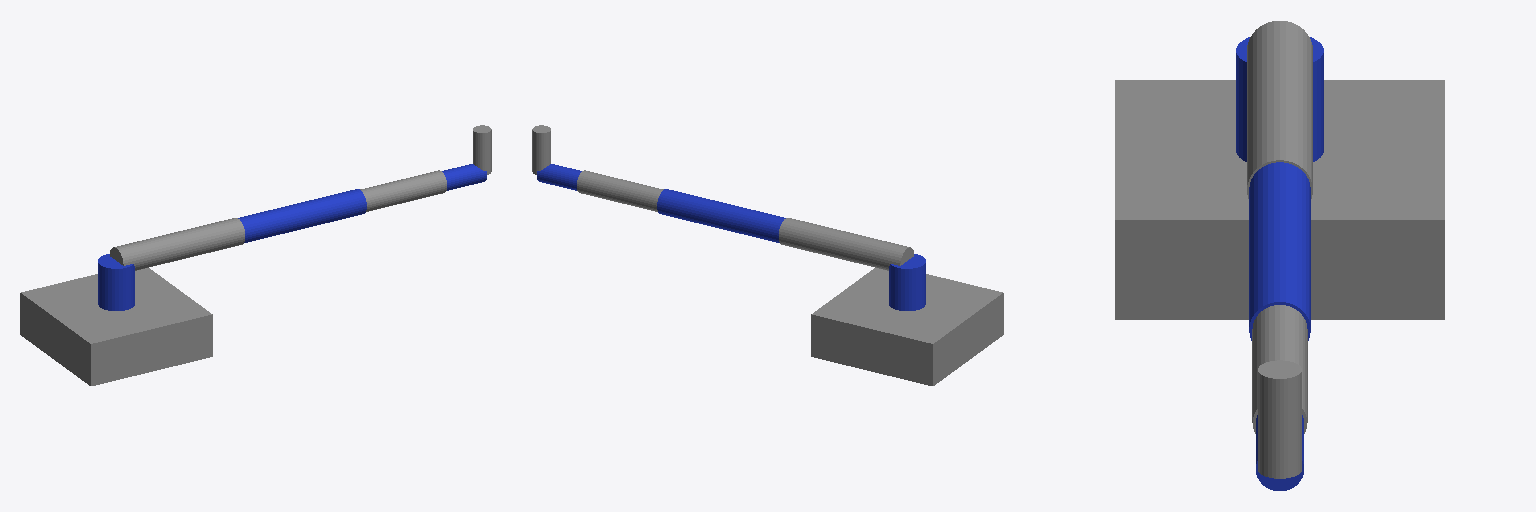
URDF robot description (six_dof_arm):
<?xml version="1.0"?>
<robot name="six_dof_arm">

  <!-- Materiali -->
  <material name="gray"><color rgba="0.6 0.6 0.6 1"/></material>
  <material name="blue"><color rgba="0.2 0.3 0.8 1"/></material>

  <!-- BASE -->
  <link name="base_link">
    <visual>
      <origin xyz="0 0 0.05" rpy="0 0 0"/>
      <geometry><box size="0.30 0.30 0.10"/></geometry>
      <material name="gray"/>
    </visual>
    <collision>
      <origin xyz="0 0 0.05" rpy="0 0 0"/>
      <geometry><box size="0.30 0.30 0.10"/></geometry>
    </collision>
  </link>

  <link name="link1">
    <visual>
      <origin xyz="0 0 0.05" rpy="0 0 0"/>
      <geometry><cylinder radius="0.04" length="0.10"/></geometry>
      <material name="blue"/>
    </visual>
    <collision>
      <origin xyz="0 0 0.05" rpy="0 0 0"/>
      <geometry><cylinder radius="0.04" length="0.10"/></geometry>
    </collision>
    <inertial>
      <mass value="1.0"/>
      <inertia ixx="0.005" iyy="0.005" izz="0.005" ixy="0" ixz="0" iyz="0"/>
    </inertial>
  </link>

  <!-- J1: spalla PAN (asse Z) -->
  <joint name="joint1" type="revolute">
    <parent link="base_link"/>
    <child link="link1"/>
    <origin xyz="0 0 0.10" rpy="0 0 0"/>
    <axis xyz="0 0 1"/>
    <limit lower="-3.1416" upper="3.1416" effort="100" velocity="2.0"/>
  </joint>

  <!-- J2: spalla LIFT (asse Y) -->
  <joint name="joint2" type="revolute">
    <parent link="link1"/>
    <child link="link2"/>
    <origin xyz="0 0 0.10" rpy="0 0 0"/>
    <axis xyz="0 1 0"/>
    <limit lower="-2.3562" upper="2.3562" effort="80" velocity="2.0"/>
  </joint>

  <link name="link2">
    <visual>
      <!-- cilindro lungo X -->
      <origin xyz="0.15 0 0" rpy="0 1.5708 0"/>
      <geometry><cylinder radius="0.03" length="0.30"/></geometry>
      <material name="gray"/>
    </visual>
    <collision>
      <origin xyz="0.15 0 0" rpy="0 1.5708 0"/>
      <geometry><cylinder radius="0.03" length="0.30"/></geometry>
    </collision>
    <inertial>
      <mass value="2.0"/>
      <inertia ixx="0.01" iyy="0.01" izz="0.01" ixy="0" ixz="0" iyz="0"/>
    </inertial>
  </link>

  <!-- J3: gomito (asse Y) -->
  <joint name="joint3" type="revolute">
    <parent link="link2"/>
    <child link="link3"/>
    <origin xyz="0.30 0 0" rpy="0 0 0"/>
    <axis xyz="0 1 0"/>
    <limit lower="-2.3562" upper="2.3562" effort="80" velocity="2.0"/>
  </joint>

  <link name="link3">
    <visual>
      <origin xyz="0.15 0 0" rpy="0 1.5708 0"/>
      <geometry><cylinder radius="0.028" length="0.30"/></geometry>
      <material name="blue"/>
    </visual>
    <collision>
      <origin xyz="0.15 0 0" rpy="0 1.5708 0"/>
      <geometry><cylinder radius="0.028" length="0.30"/></geometry>
    </collision>
    <inertial>
      <mass value="2.0"/>
      <inertia ixx="0.01" iyy="0.01" izz="0.01" ixy="0" ixz="0" iyz="0"/>
    </inertial>
  </link>

  <!-- J4: primo asse polso (asse Y) -->
  <joint name="joint4" type="revolute">
    <parent link="link3"/>
    <child link="link4"/>
    <origin xyz="0.30 0 0" rpy="0 0 0"/>
    <axis xyz="0 1 0"/>
    <limit lower="-3.1416" upper="3.1416" effort="50" velocity="3.0"/>
  </joint>

  <link name="link4">
    <visual>
      <origin xyz="0.10 0 0" rpy="0 1.5708 0"/>
      <geometry><cylinder radius="0.025" length="0.20"/></geometry>
      <material name="gray"/>
    </visual>
    <collision>
      <origin xyz="0.10 0 0" rpy="0 1.5708 0"/>
      <geometry><cylinder radius="0.025" length="0.20"/></geometry>
    </collision>
    <inertial>
      <mass value="1.0"/>
      <inertia ixx="0.005" iyy="0.005" izz="0.005" ixy="0" ixz="0" iyz="0"/>
    </inertial>
  </link>

  <!-- J5: secondo asse polso (asse X) -->
  <joint name="joint5" type="revolute">
    <parent link="link4"/>
    <child link="link5"/>
    <origin xyz="0.20 0 0" rpy="0 0 0"/>
    <axis xyz="1 0 0"/>
    <limit lower="-3.1416" upper="3.1416" effort="40" velocity="3.0"/>
  </joint>

  <link name="link5">
    <visual>
      <origin xyz="0.05 0 0" rpy="0 1.5708 0"/>
      <geometry><cylinder radius="0.022" length="0.10"/></geometry>
      <material name="blue"/>
    </visual>
    <collision>
      <origin xyz="0.05 0 0" rpy="0 1.5708 0"/>
      <geometry><cylinder radius="0.022" length="0.10"/></geometry>
    </collision>
    <inertial>
      <mass value="0.5"/>
      <inertia ixx="0.003" iyy="0.003" izz="0.003" ixy="0" ixz="0" iyz="0"/>
    </inertial>
  </link>

  <!-- J6: terzo asse polso (asse Z) -->
  <joint name="joint6" type="revolute">
    <parent link="link5"/>
    <child link="tool0"/>
    <origin xyz="0.10 0 0" rpy="0 0 0"/>
    <axis xyz="0 0 1"/>
    <limit lower="-3.1416" upper="3.1416" effort="30" velocity="4.0"/>
  </joint>

  <!-- Flangia utensile -->
  <link name="tool0">
    <visual>
      <origin xyz="0 0 0.05" rpy="0 0 0"/>
      <geometry><cylinder radius="0.02" length="0.10"/></geometry>
      <material name="gray"/>
    </visual>
    <collision>
      <origin xyz="0 0 0.05" rpy="0 0 0"/>
      <geometry><cylinder radius="0.02" length="0.10"/></geometry>
    </collision>
    <inertial>
      <mass value="0.3"/>
      <inertia ixx="0.001" iyy="0.001" izz="0.001" ixy="0" ixz="0" iyz="0"/>
    </inertial>
  </link>

</robot>

--- Facts derived from the render (not from the file) ---
3 views of the same robot in one strip: view 1: azimuth 30°, elevation 25°; view 2: azimuth 150°, elevation 25°; view 3: azimuth 270°, elevation 25° (orthographic).
Model six_dof_arm with 7 links and 6 joints (6 revolute), rooted at base_link, posed all joints at 0.
Links seen in each view (by area): view 1: base_link, link2, link3, link4, link1, tool0, link5; view 2: base_link, link2, link3, link4, link1, tool0, link5; view 3: base_link, link2, link3, tool0, link4, link1, link5.
Link boxes in pixels (x1,y1,x2,y2): base_link: (20,268,212,385); link2: (110,218,244,270); link3: (238,189,366,242); link4: (360,170,446,211); link1: (98,254,134,310); tool0: (473,125,491,174); link5: (442,164,486,190); base_link: (811,268,1003,385); link2: (779,218,913,270); link3: (657,189,785,242); link4: (577,170,663,211); link1: (889,254,925,310); tool0: (532,125,550,174); link5: (537,164,581,190); base_link: (1115,80,1444,319); link2: (1247,21,1312,198); link3: (1249,162,1310,340); tool0: (1258,360,1301,478); link4: (1252,305,1307,433); link1: (1236,37,1323,161); link5: (1256,415,1303,490).
Size in the robot's own frame: 1.07 by 0.3 by 0.3 metres.
Geometry: primitives only (box / cylinder / sphere), no mesh files.